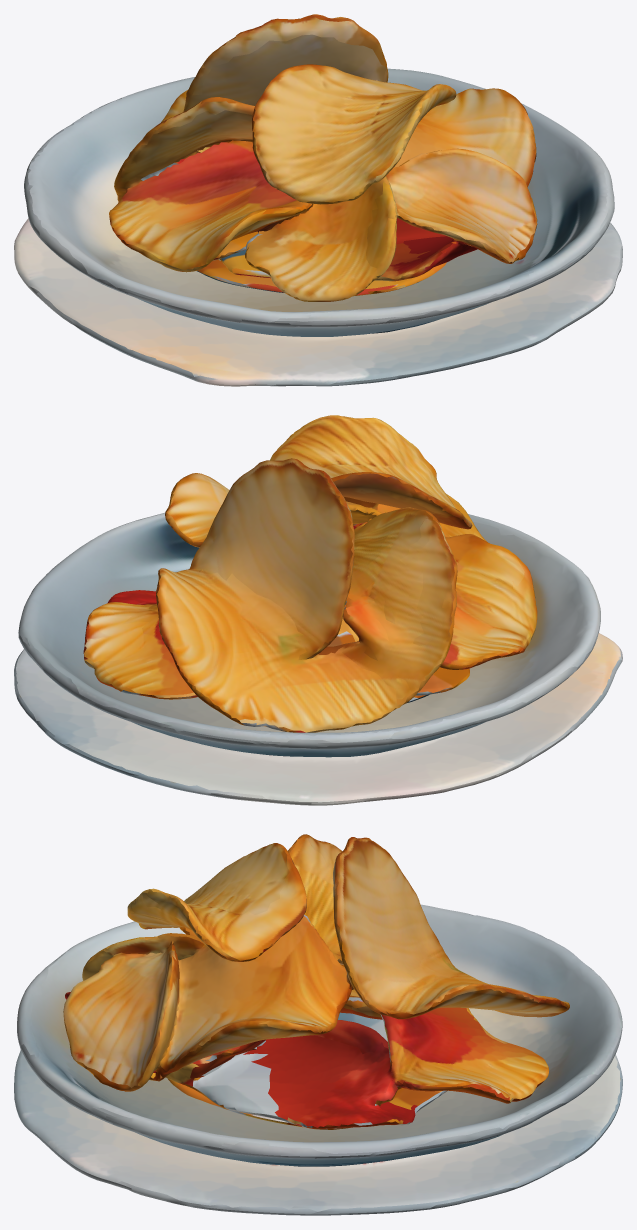
The picture shows the model from 3 angles, top to bottom: view 1: azimuth 30°, elevation 25°; view 2: azimuth 150°, elevation 25°; view 3: azimuth 270°, elevation 25°; orthographic projection. The views are drawn at different scales.
Parts seen in each view (by area): view 1: tmp6oc5nox5.ply; view 2: tmp6oc5nox5.ply; view 3: tmp6oc5nox5.ply.
Part boxes in pixels (x1=…): tmp6oc5nox5.ply: x1=14, y1=14, x2=622, y2=386; tmp6oc5nox5.ply: x1=14, y1=415, x2=622, y2=805; tmp6oc5nox5.ply: x1=14, y1=834, x2=622, y2=1215.
Bounding box in the file's own units: 1.99 × 0.8735 × 2.
Materials: 1 (1 with a texture image).
